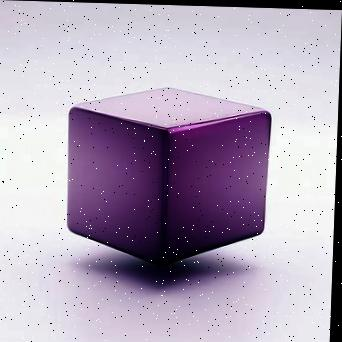cube: (63, 83, 273, 275)
